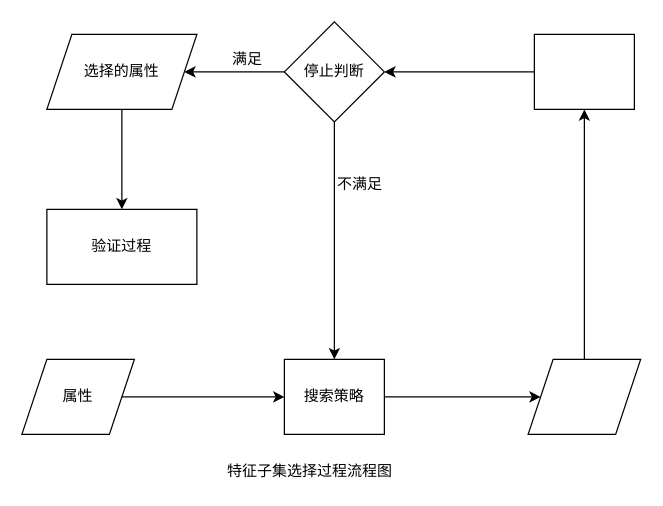
Some shapes in this 663 by 506 pixel diagram are drawn without their labels. The box of each missing label's shape, as (x1, y1, x2, y2) in pixels:
属性子集: (527, 358, 641, 434)
评估: (533, 33, 634, 109)
